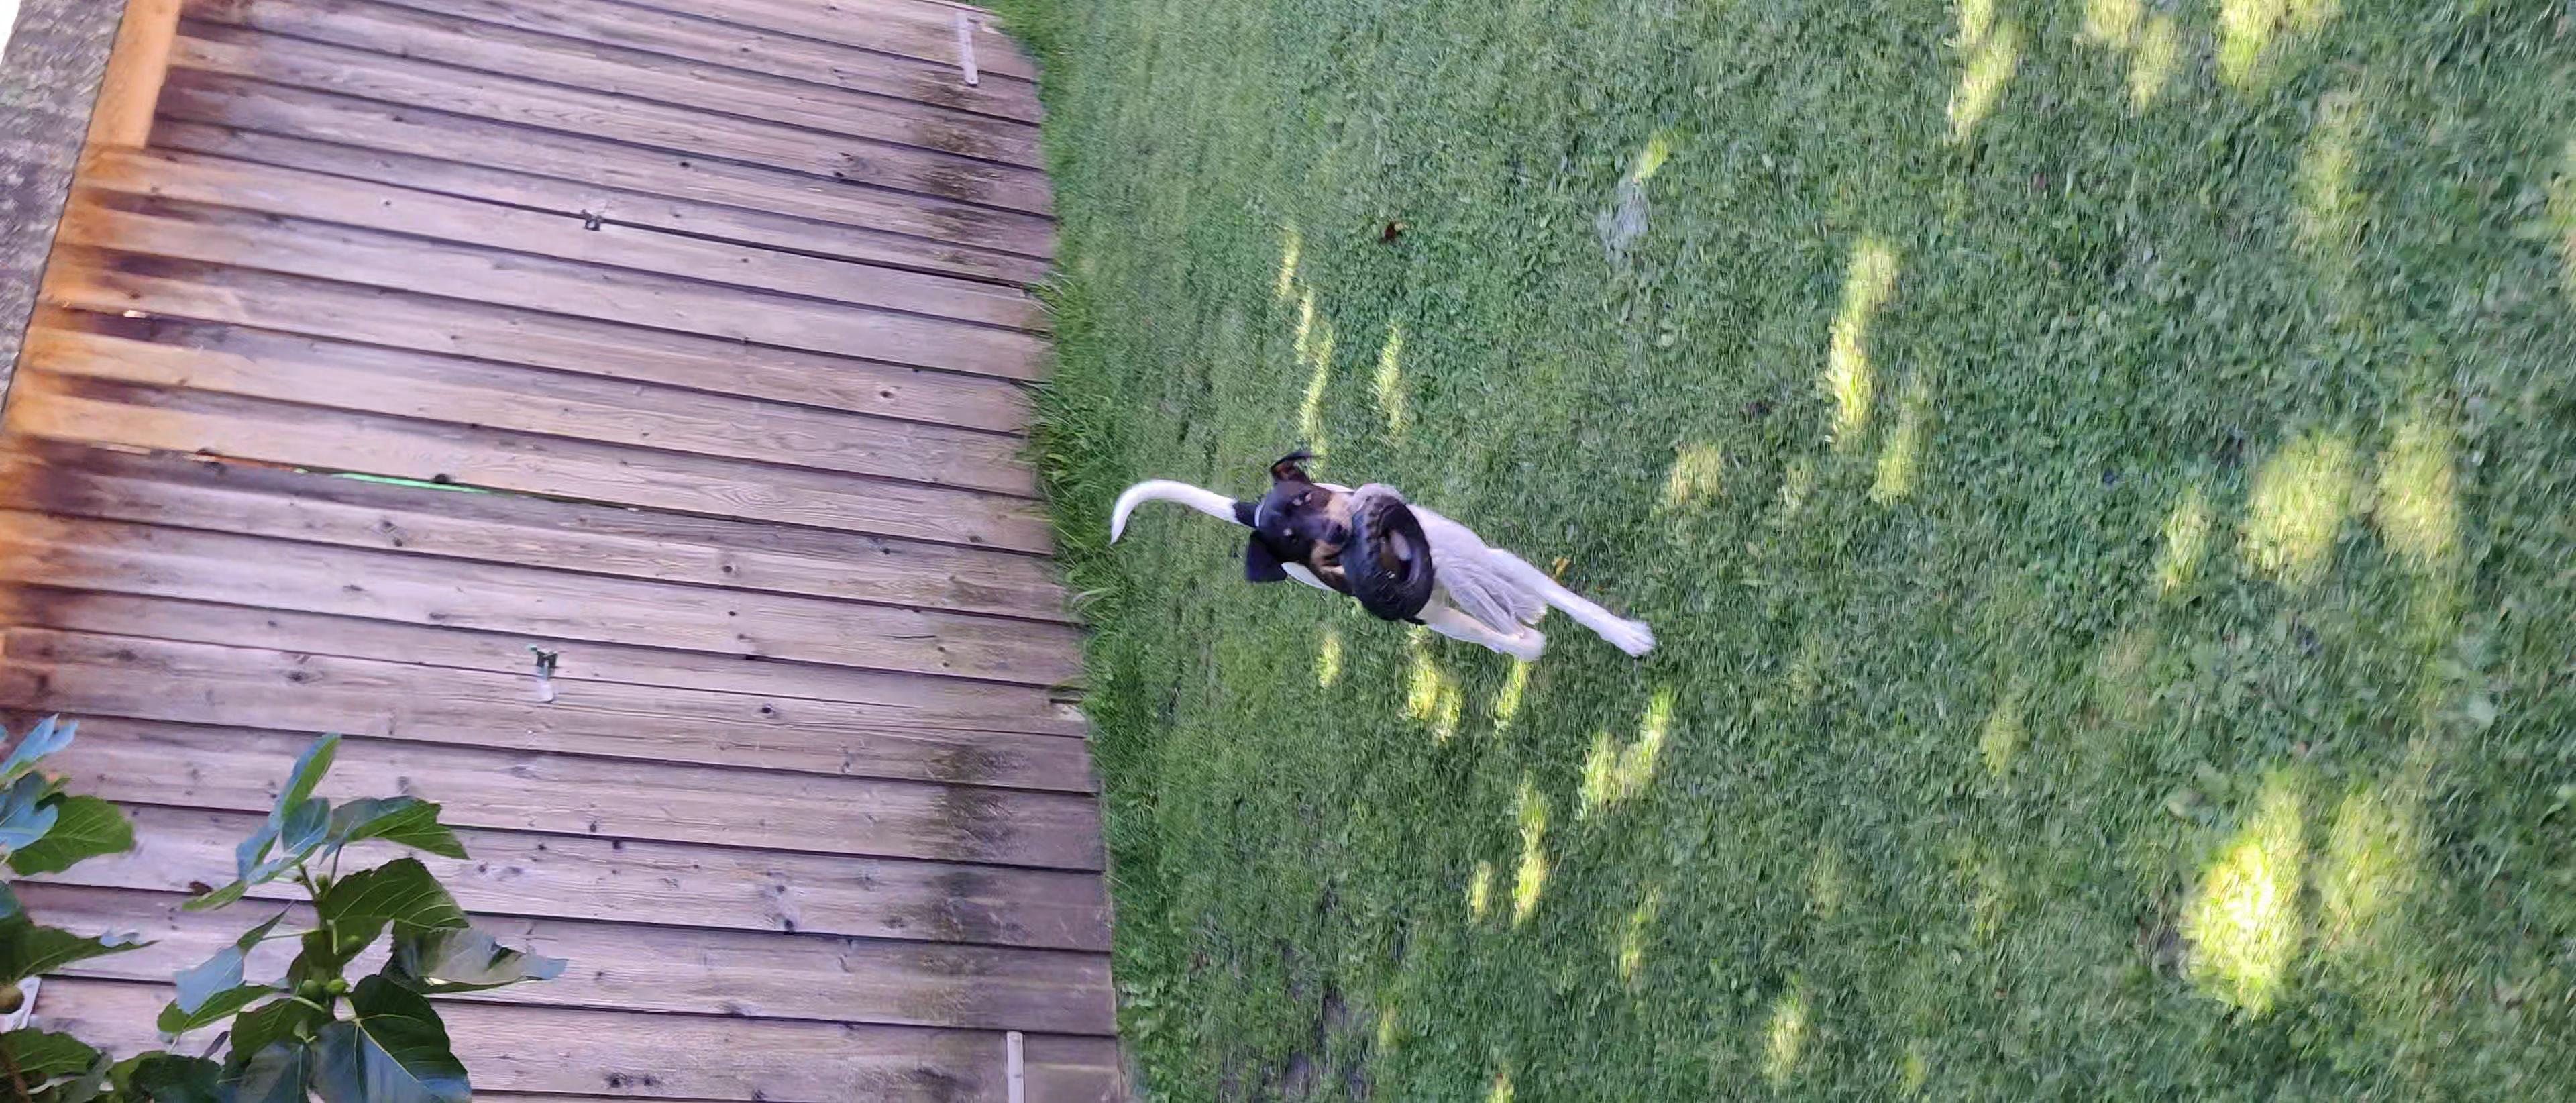Dog: (1083, 436, 1681, 702)
